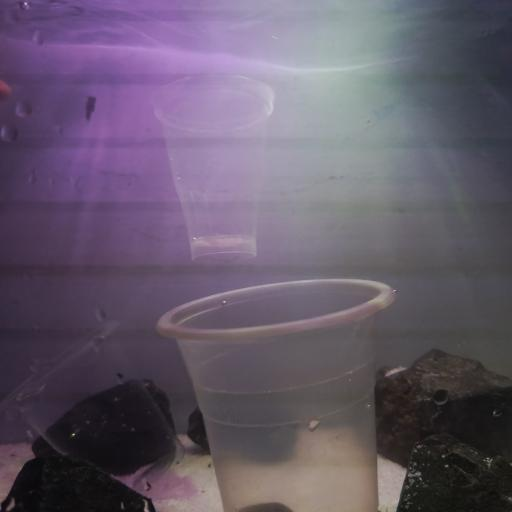plastic_cup: (155, 279, 396, 512), (6, 321, 189, 495), (152, 71, 274, 266)
